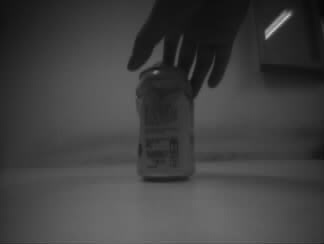Tin can: (137, 63, 194, 180)
